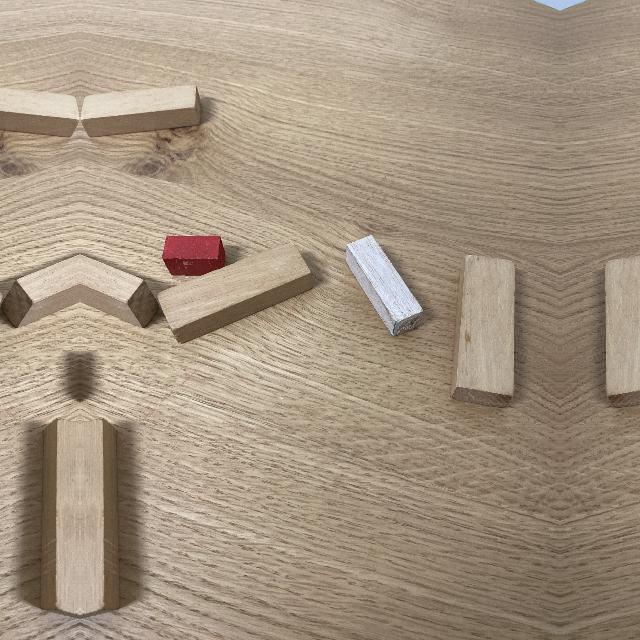block: (344, 236, 427, 338)
jenga: (157, 243, 318, 344), (452, 255, 515, 408), (80, 415, 120, 618), (40, 415, 80, 618), (80, 85, 201, 138), (80, 252, 160, 327), (0, 252, 80, 327), (605, 255, 640, 408), (0, 88, 80, 138)
red block: (162, 236, 226, 276)
